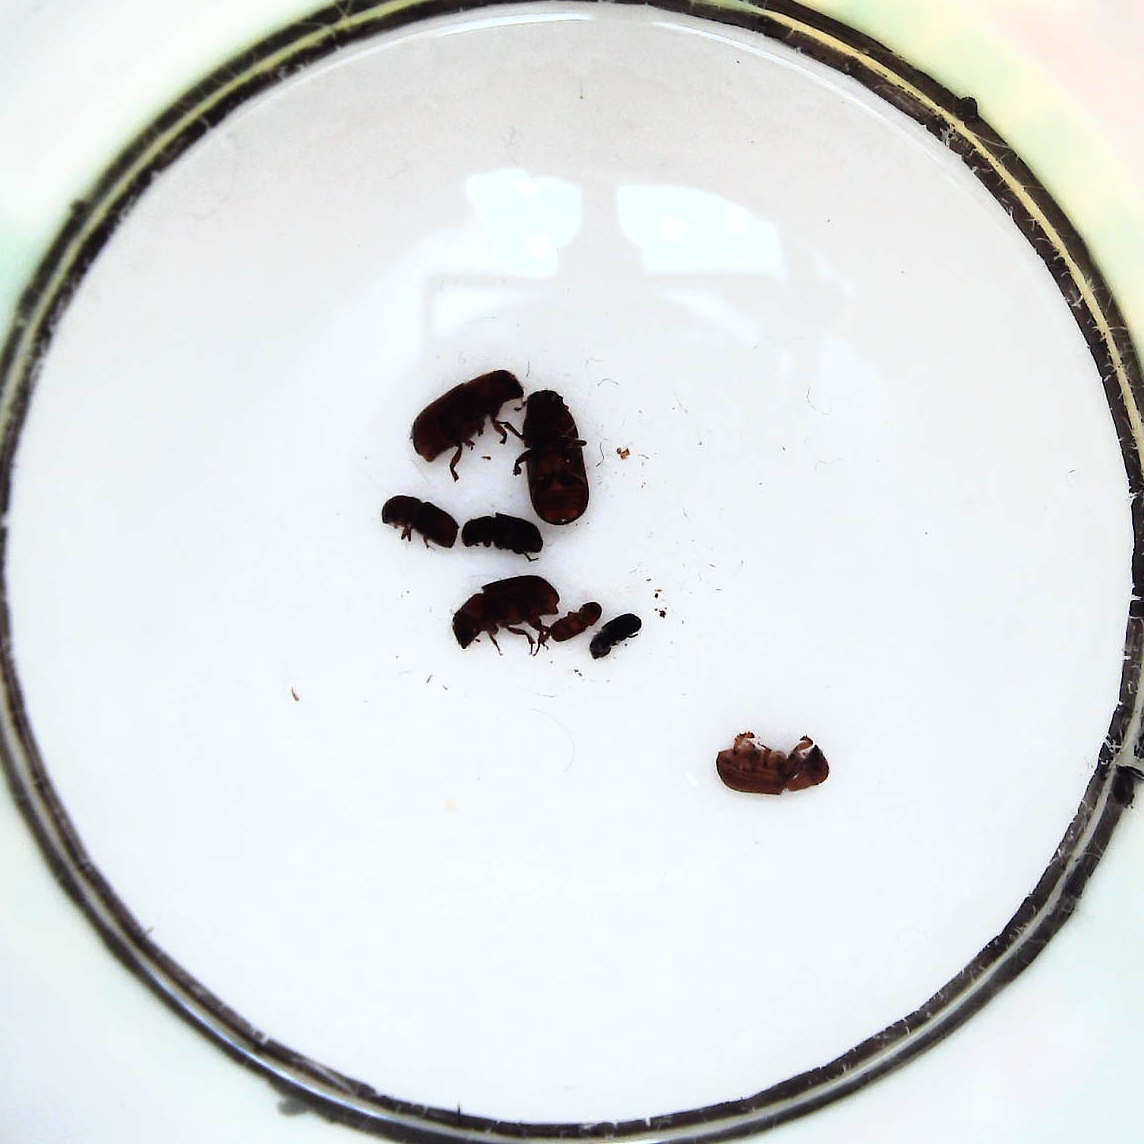Leconte: (409, 367, 522, 484), (512, 390, 592, 520), (448, 575, 556, 656), (710, 730, 832, 800)
Linnaeus: (376, 493, 463, 554)
acuminatus: (545, 598, 604, 644)
armandi: (461, 513, 545, 562)
coleoptera: (586, 610, 645, 661)
